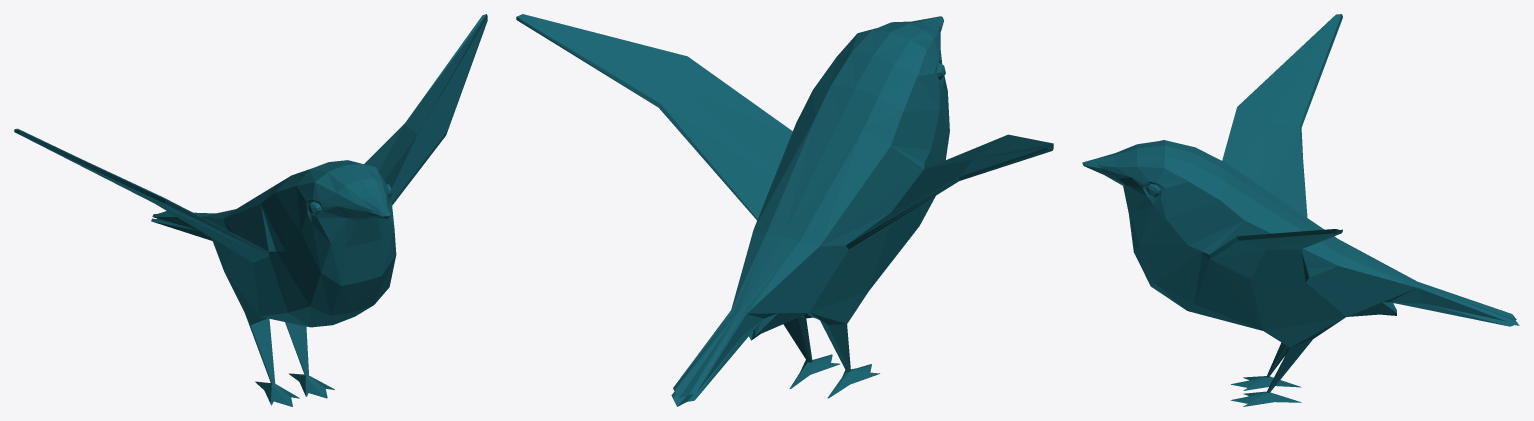
The model's file is Bird_LP.dae.
3 views of the same model, side by side, from view 1: azimuth 30°, elevation 25°; view 2: azimuth 150°, elevation 25°; view 3: azimuth 270°, elevation 25° (orthographic). The views are drawn at different scales.
Visible parts, largest first — view 1: bird; view 2: bird; view 3: bird.
Part boxes in pixels (x1,y1,x2,y2): bird: (14,14,487,406); bird: (516,14,1053,406); bird: (1082,14,1519,406).
Size of the model in its own units: 42.4 by 24.94 by 36.2.
